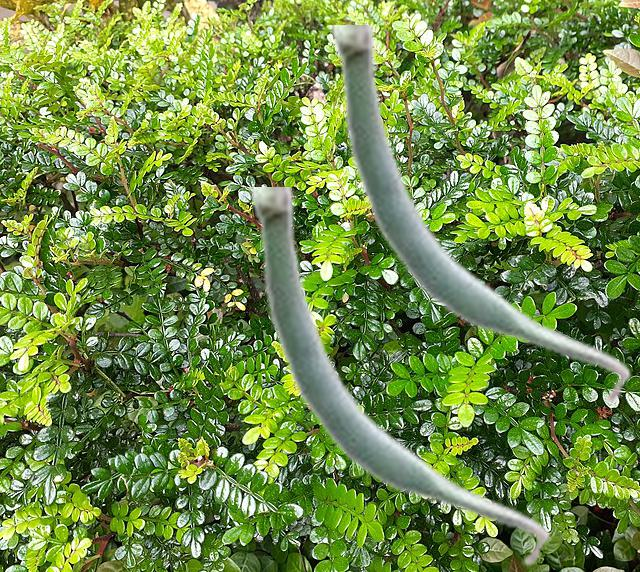french_bean: (330, 25, 631, 406), (249, 187, 550, 568)
